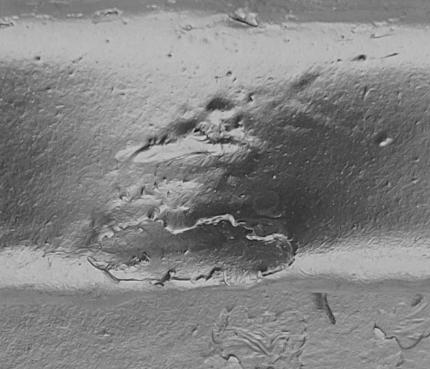dent: (1, 1, 430, 369)
